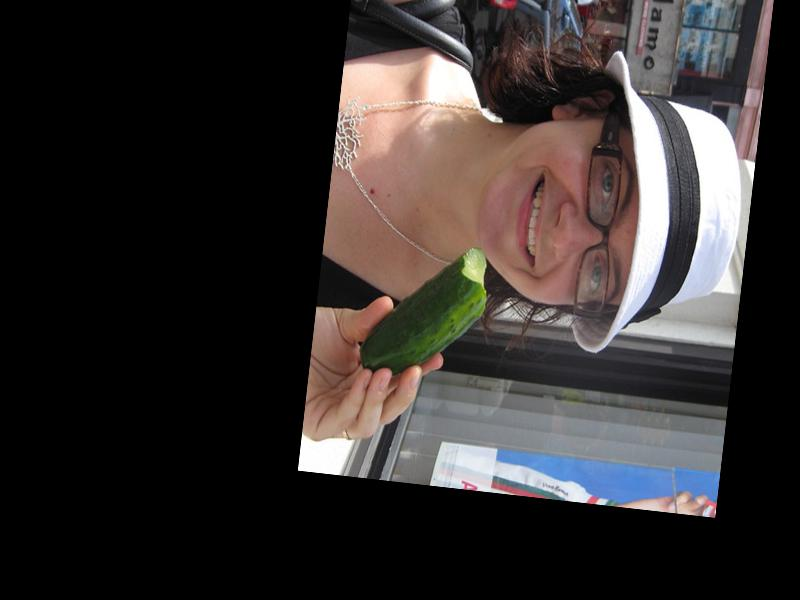Cucumber: (357, 238, 491, 387)
